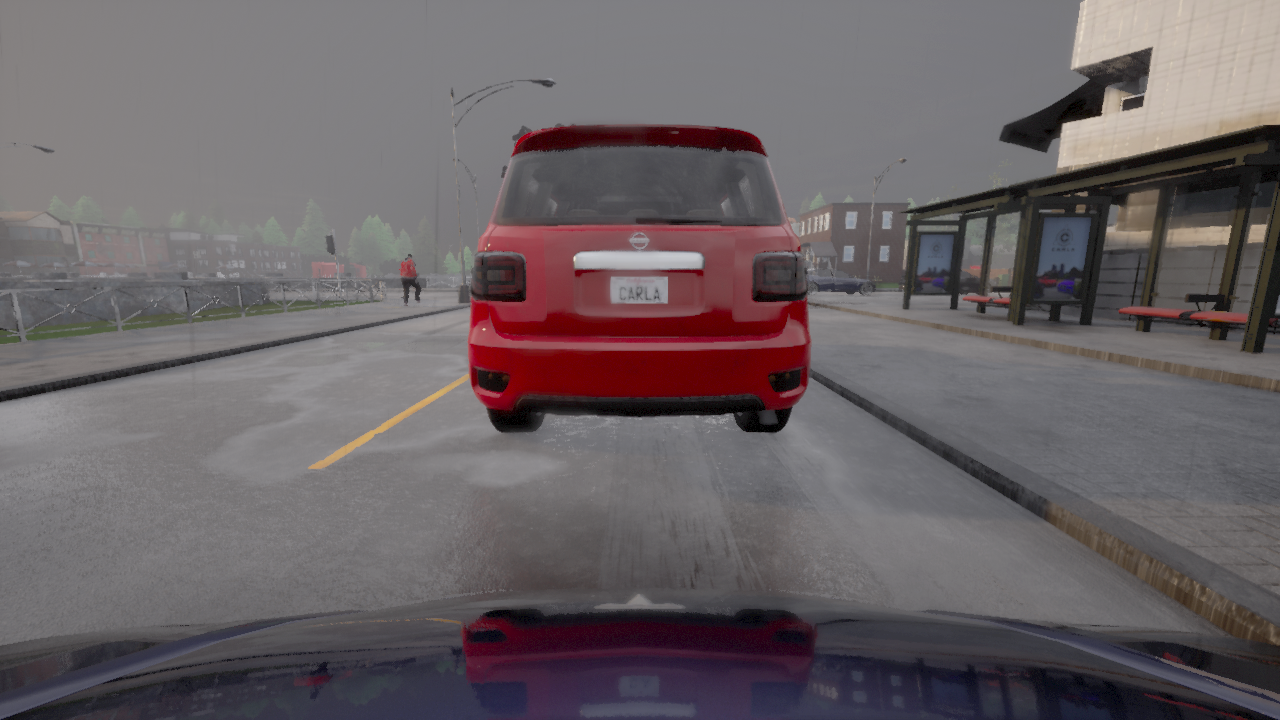cyclist: (0, 588, 1279, 719), (467, 124, 810, 432), (899, 270, 980, 294), (807, 268, 876, 294)
pedestrian: (399, 252, 421, 306), (400, 286, 414, 297)
